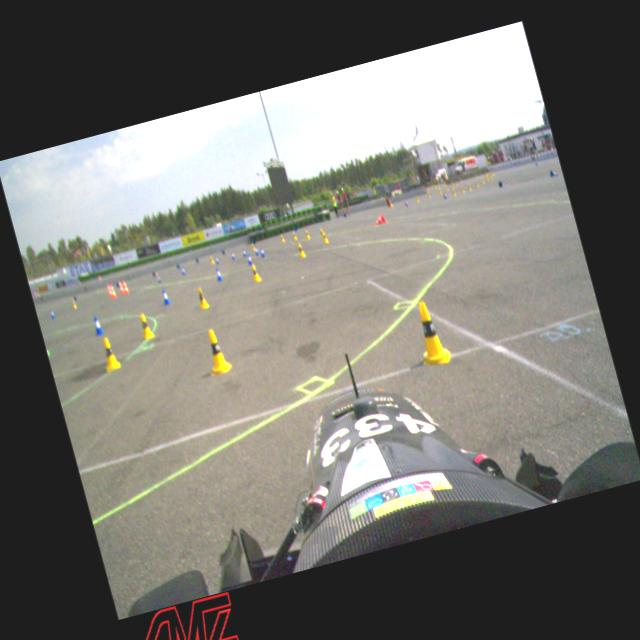blue_cone: (92, 315, 105, 335), (158, 286, 170, 305), (214, 268, 224, 282), (245, 252, 252, 265), (548, 168, 558, 177), (258, 246, 266, 257), (49, 308, 56, 318), (213, 254, 220, 264), (253, 246, 260, 256), (229, 250, 235, 260), (241, 248, 247, 258), (497, 180, 504, 188), (180, 266, 186, 275), (442, 190, 448, 199), (403, 198, 408, 206)
large_orange_cone: (121, 278, 130, 295), (109, 282, 118, 299), (116, 278, 125, 294), (105, 282, 114, 298)
orange_cone: (372, 212, 386, 225)
yellow_cone: (408, 296, 452, 368), (199, 326, 233, 378), (95, 334, 121, 371), (136, 310, 156, 340), (193, 286, 210, 310), (249, 262, 262, 283), (295, 241, 306, 258), (320, 230, 328, 244), (70, 298, 78, 310), (319, 226, 325, 238), (304, 228, 310, 239), (208, 254, 214, 264), (291, 230, 297, 240), (279, 233, 285, 242), (414, 195, 420, 203), (426, 191, 432, 199), (460, 184, 465, 193), (451, 188, 456, 196), (466, 182, 471, 190), (479, 176, 484, 184), (474, 180, 478, 187), (438, 187, 442, 194)
